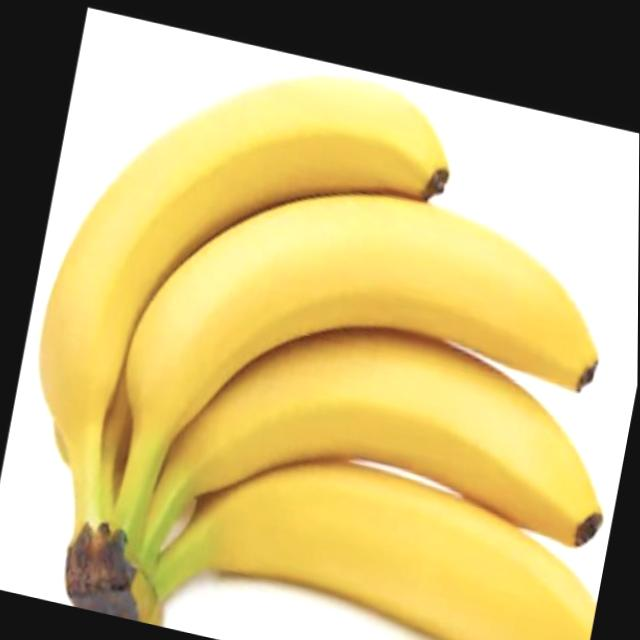Banana: (0, 11, 640, 640)
